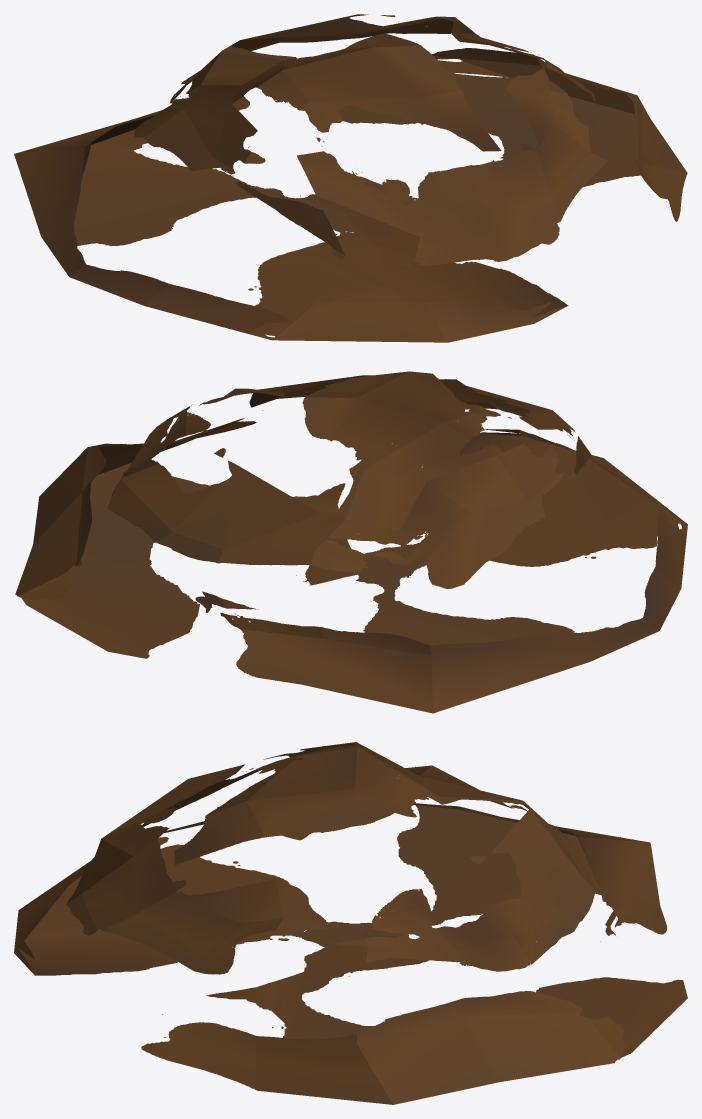
File: Collin_dirtPile_01.fbx
3 views of the same model, one above another, from view 1: azimuth 30°, elevation 25°; view 2: azimuth 150°, elevation 25°; view 3: azimuth 270°, elevation 25° (orthographic). The views are drawn at different scales.
Parts seen in each view (by area): view 1: Pileofdirt.001; view 2: Pileofdirt.001; view 3: Pileofdirt.001.
Part boxes in pixels (x1,y1,x2,y2): Pileofdirt.001: (14,14,687,342); Pileofdirt.001: (15,371,687,713); Pileofdirt.001: (14,742,687,1104).
Bounding box in the file's own units: 40.02 × 10.03 × 37.29.
1 material, 1 textured.
